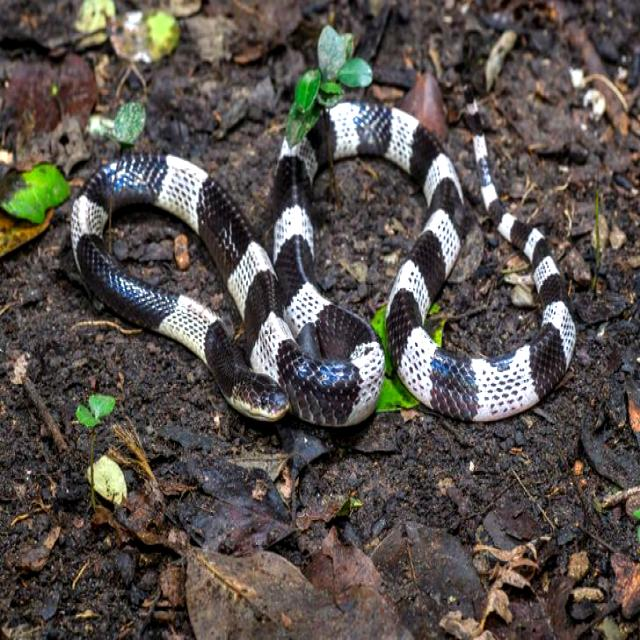Bungarus candidus: (72, 96, 575, 426)
snake: (72, 96, 575, 426)
